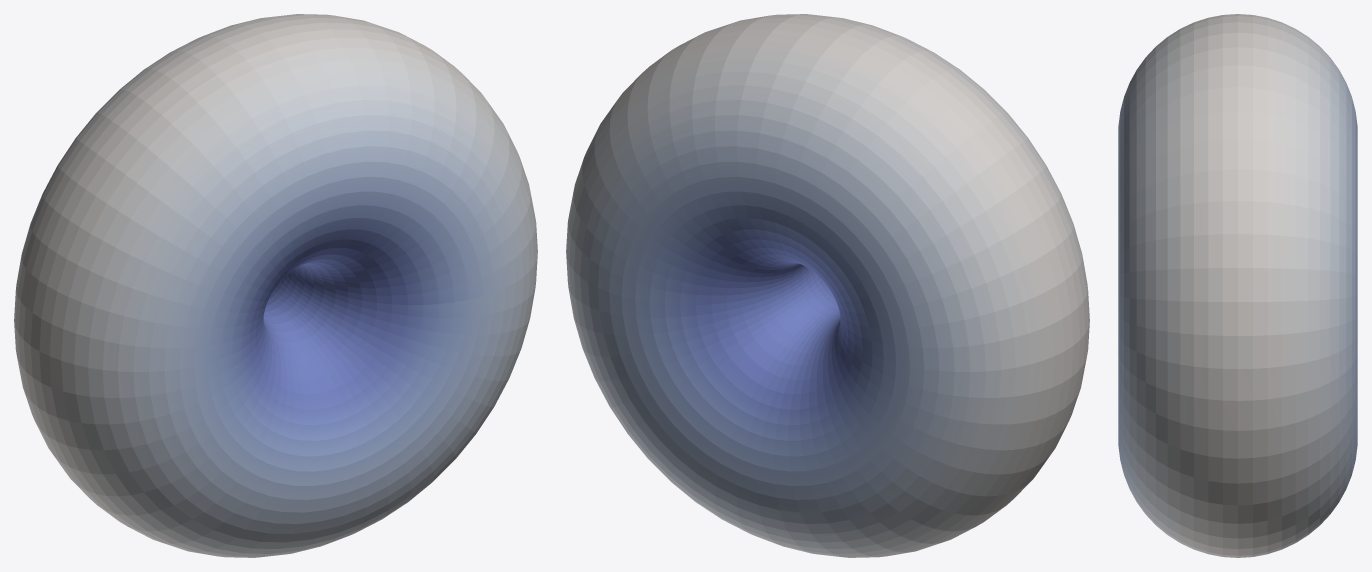
The picture shows the model from 3 angles, left to right: view 1: azimuth 30°, elevation 25°; view 2: azimuth 150°, elevation 25°; view 3: azimuth 270°, elevation 25°; orthographic projection. The views are drawn at different scales.
Parts seen in each view (by area): view 1: world; view 2: world; view 3: world.
Part boxes in pixels (bbox=[...]): world: bbox=[14, 14, 537, 557]; world: bbox=[566, 14, 1089, 557]; world: bbox=[1118, 14, 1357, 557].
Size of the model in its own units: 19.07 by 19.03 by 8.38.
